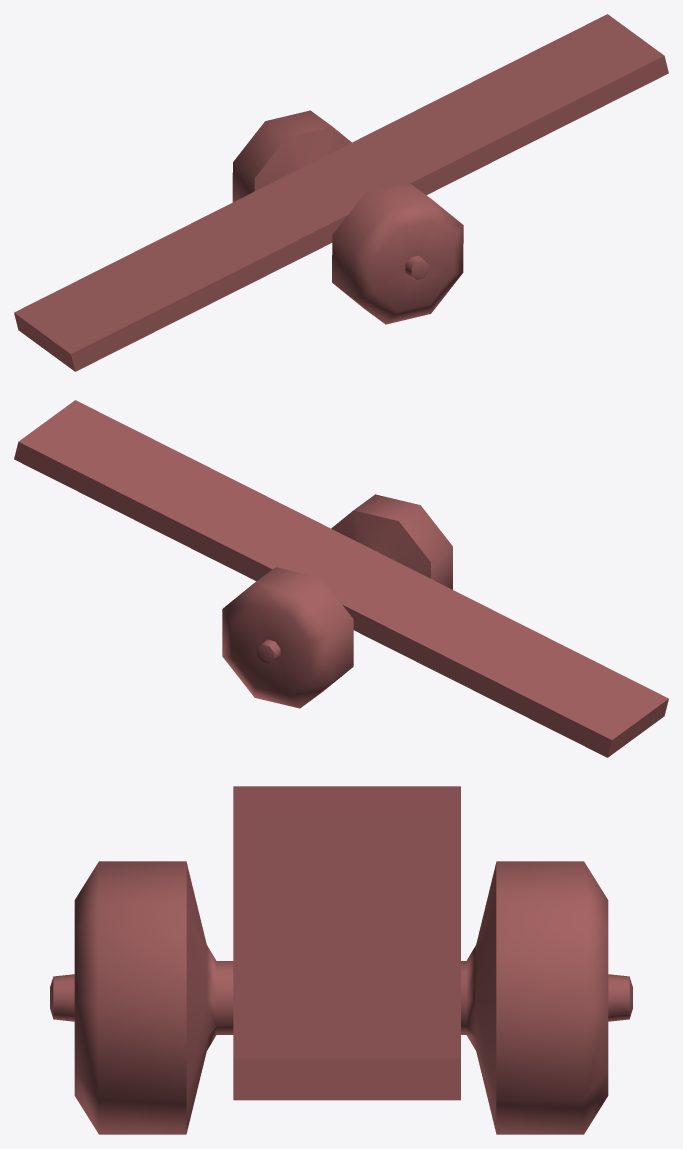
The model's file is Wippe.fbx.
3 renders of one model, top to bottom at view 1: azimuth 30°, elevation 25°; view 2: azimuth 150°, elevation 25°; view 3: azimuth 270°, elevation 25°, orthographic. The views are drawn at different scales.
Visible parts, largest first — view 1: Wippe; view 2: Wippe; view 3: Wippe.
Boxes of the visible parts, left/top/right/bottom form: Wippe: left=14, top=14, right=668, bottom=371; Wippe: left=14, top=400, right=668, bottom=757; Wippe: left=50, top=786, right=632, bottom=1134.
Size of the model in its own units: 1996 by 550 by 842.
